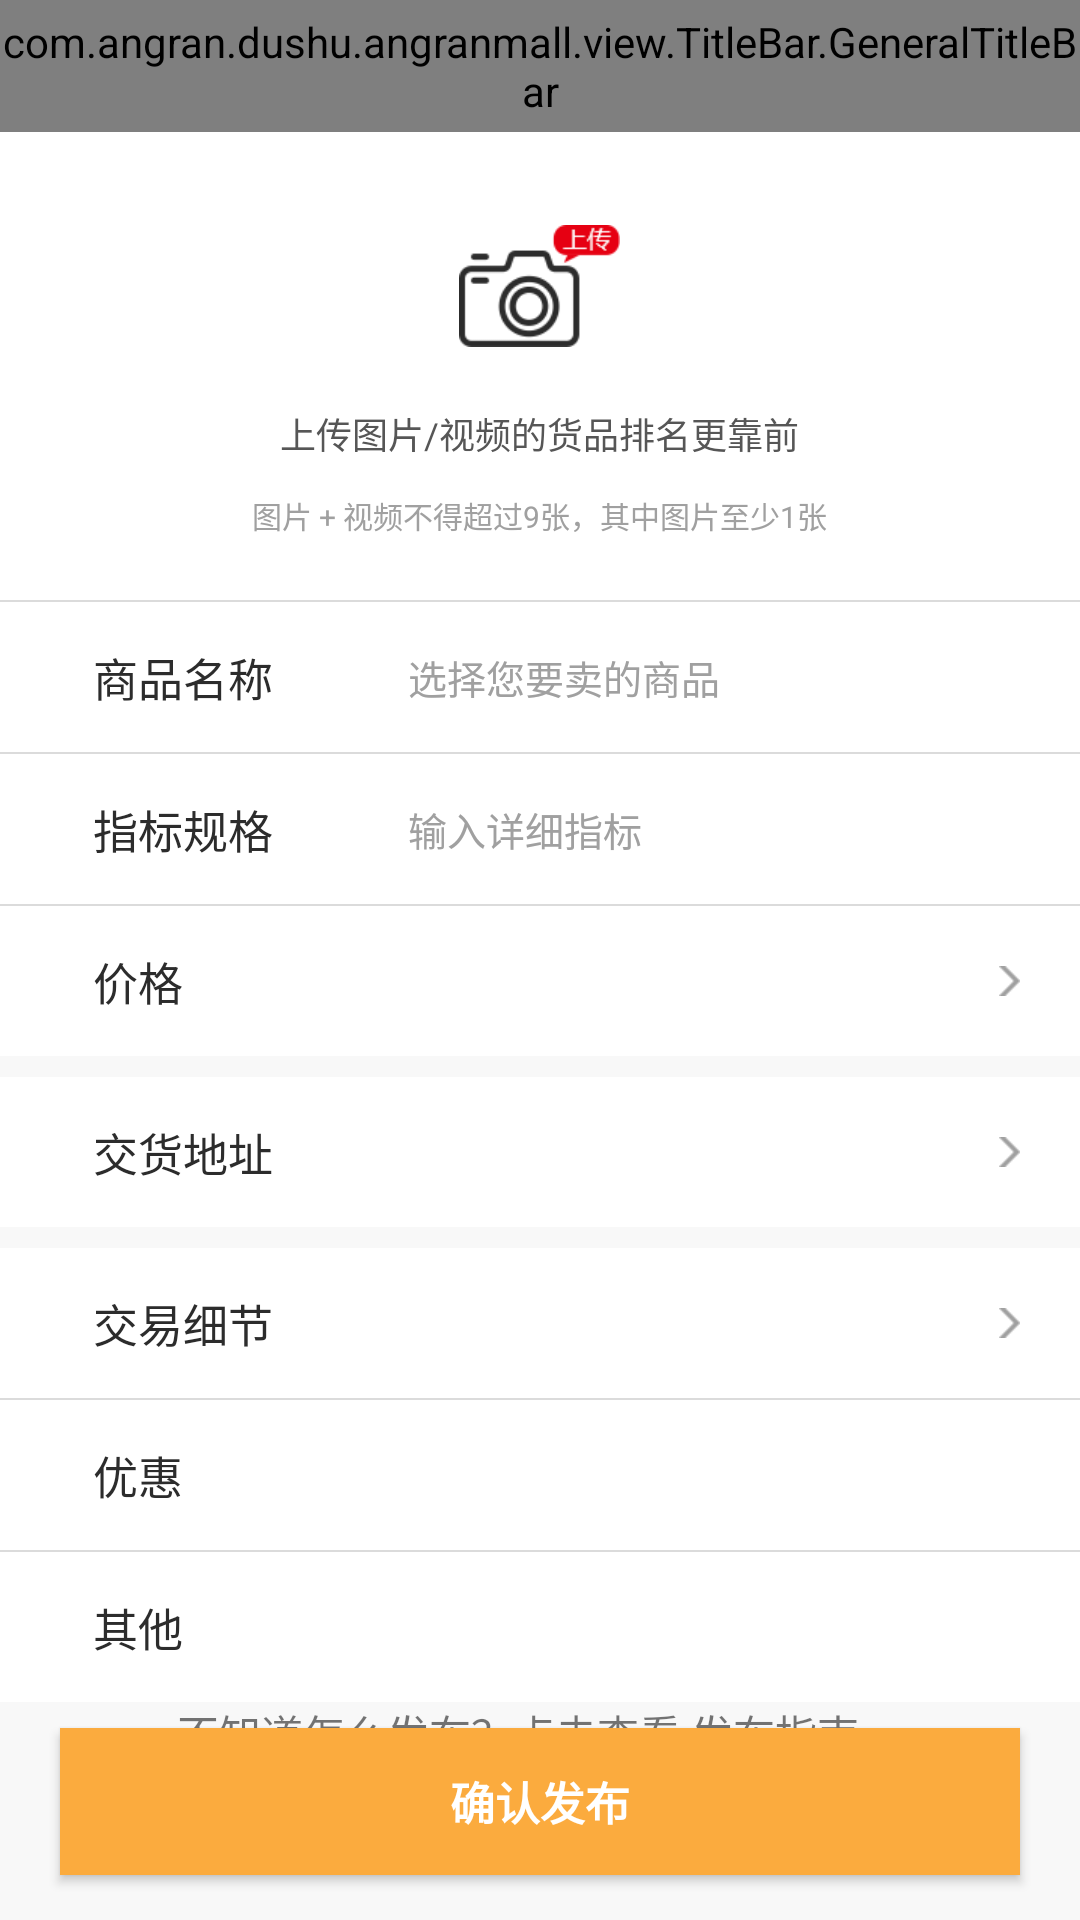

Where icons sit on this 1080 × 1920 app screen, as (x1, y1, x2, y2):
camera: (459, 225, 620, 347)
